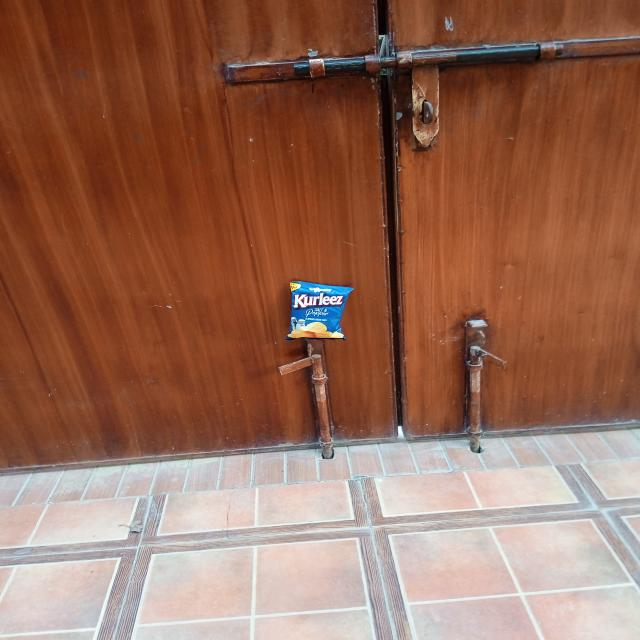Plastic: (291, 280, 347, 342)
